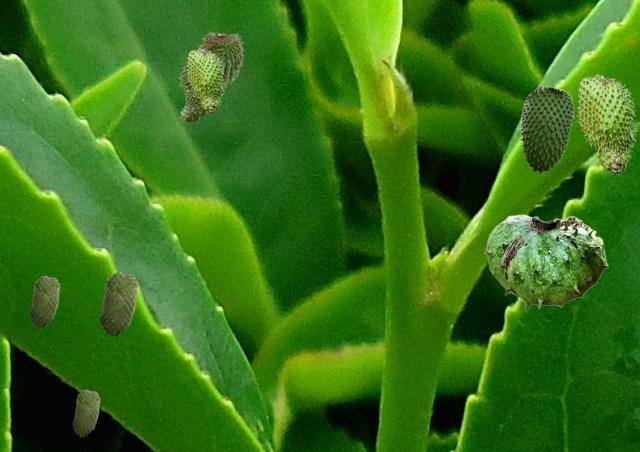guyabano: (484, 214, 607, 311), (576, 74, 636, 175), (520, 85, 573, 173), (178, 30, 243, 95), (99, 271, 137, 336), (186, 48, 224, 113), (29, 275, 59, 327), (72, 389, 99, 436), (179, 87, 208, 123)
